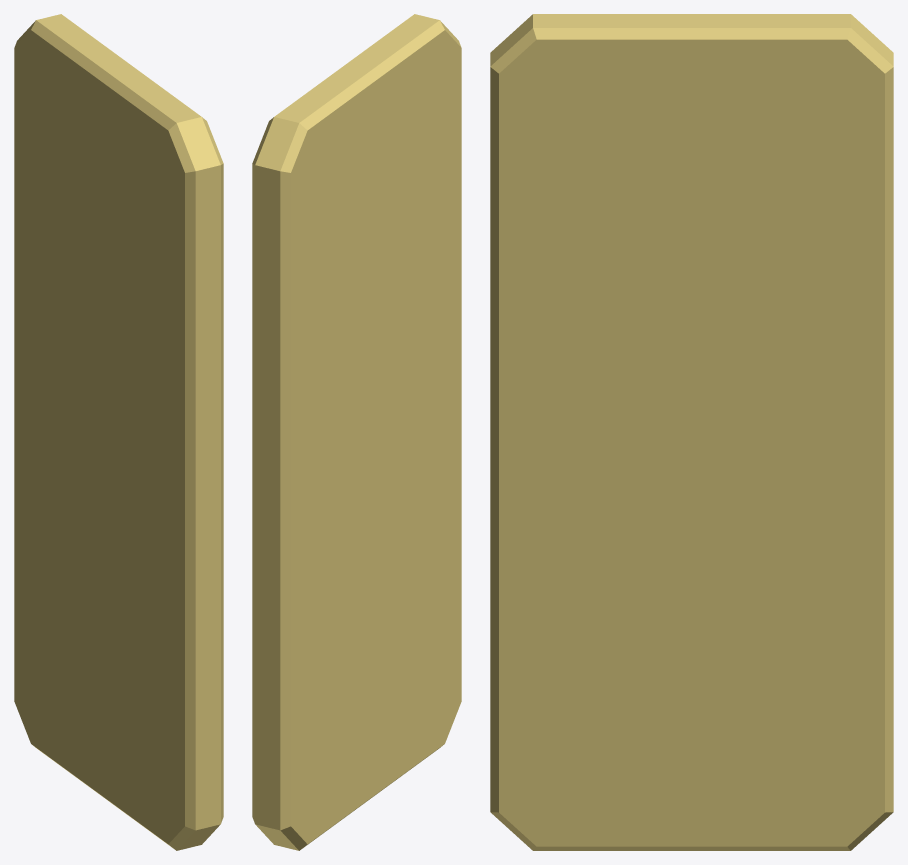
Rendered from Door_StoneNew.fbx.
The picture shows the model from 3 angles, left to right: view 1: azimuth 30°, elevation 25°; view 2: azimuth 150°, elevation 25°; view 3: azimuth 270°, elevation 25°; orthographic projection. The views are drawn at different scales.
Visible parts, largest first — view 1: StoneDoor_Base.001; view 2: StoneDoor_Base.001; view 3: StoneDoor_Base.001.
Part boxes in pixels (<box>): StoneDoor_Base.001: <box>14,14,223,850</box>; StoneDoor_Base.001: <box>252,14,461,850</box>; StoneDoor_Base.001: <box>490,14,893,850</box>.
Size of the model in its own units: 100 by 1800 by 800.
